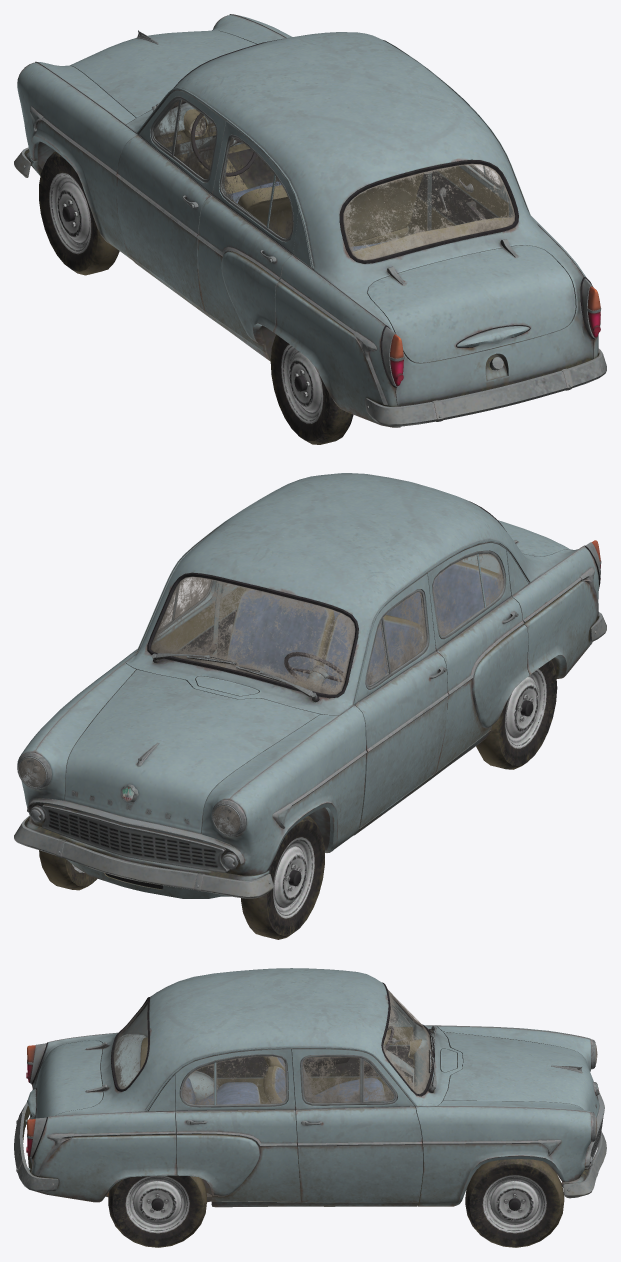
The model's file is moskvich_407.glb.
3 views of the same model, one above another, from view 1: azimuth 30°, elevation 25°; view 2: azimuth 150°, elevation 25°; view 3: azimuth 270°, elevation 25° (orthographic). The views are drawn at different scales.
Visible parts, largest first — view 1: Object_4, Object_3, Object_6, Object_5, Object_2; view 2: Object_4, Object_3, Object_6, Object_2, Object_5; view 3: Object_4, Object_3, Object_2, Object_6, Object_5.
Boxes of the visible parts, x1,y1,x2,y2 form: Object_4: [17, 14, 606, 427]; Object_3: [14, 14, 602, 427]; Object_6: [154, 100, 515, 260]; Object_5: [39, 151, 353, 444]; Object_2: [22, 15, 600, 421]; Object_4: [17, 501, 606, 898]; Object_3: [17, 473, 602, 898]; Object_6: [19, 553, 503, 834]; Object_2: [14, 541, 599, 891]; Object_5: [64, 660, 557, 939]; Object_4: [14, 983, 606, 1207]; Object_3: [16, 968, 604, 1196]; Object_2: [22, 1007, 603, 1247]; Object_6: [113, 989, 597, 1137]; Object_5: [108, 1163, 560, 1247].
Bounding box in the file's own units: 238 × 245 × 617.
Materials: 2 (2 with a texture image).
